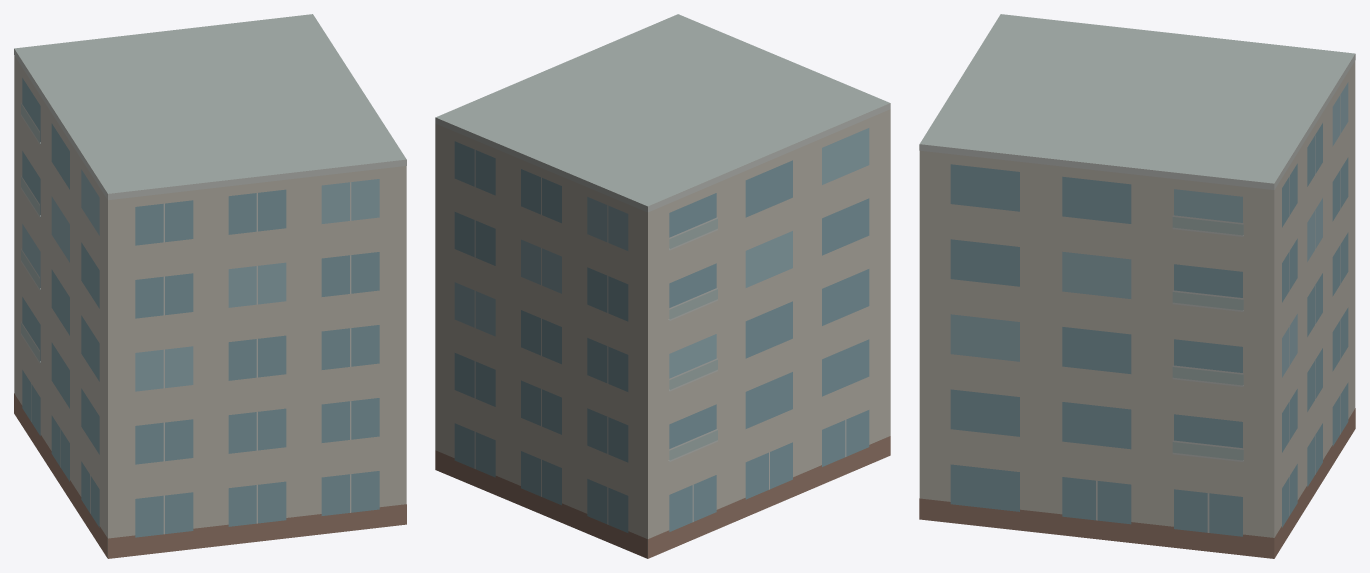
File: survey-upis-32653775.glb
The picture shows the model from 3 angles, left to right: view 1: azimuth 30°, elevation 25°; view 2: azimuth 150°, elevation 25°; view 3: azimuth 270°, elevation 25°; orthographic projection. The views are drawn at different scales.
Parts seen in each view (by area): view 1: survey-upis-32653775.tmp; view 2: survey-upis-32653775.tmp; view 3: survey-upis-32653775.tmp.
Part boxes in pixels (x1=…): survey-upis-32653775.tmp: x1=14, y1=14, x2=406, y2=558; survey-upis-32653775.tmp: x1=435, y1=14, x2=890, y2=558; survey-upis-32653775.tmp: x1=919, y1=14, x2=1355, y2=558.
Bounding box in the file's own units: 13.68 × 14.1 × 14.86.
